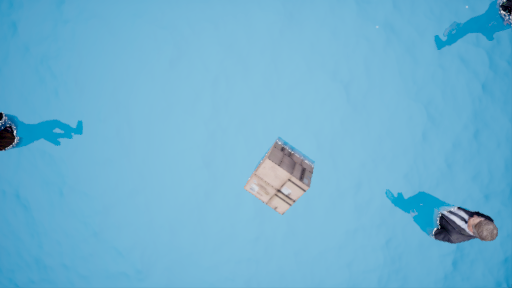person: (384, 179, 503, 251)
